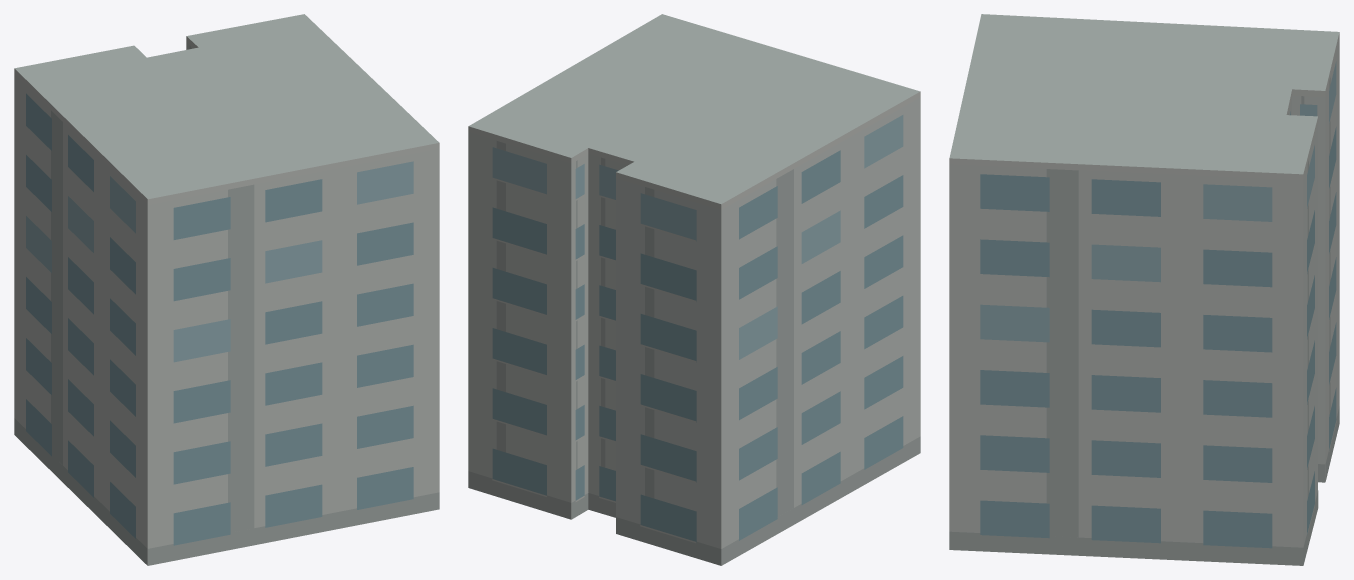
Rendered from survey-upis-33010345.glb.
The picture shows the model from 3 angles, left to right: view 1: azimuth 30°, elevation 25°; view 2: azimuth 150°, elevation 25°; view 3: azimuth 270°, elevation 25°; orthographic projection. The views are drawn at different scales.
Parts seen in each view (by area): view 1: survey-upis-33010345.tmp; view 2: survey-upis-33010345.tmp; view 3: survey-upis-33010345.tmp.
Part boxes in pixels (x1,y1,x2,y2): survey-upis-33010345.tmp: (14, 14, 439, 565); survey-upis-33010345.tmp: (468, 14, 920, 565); survey-upis-33010345.tmp: (949, 14, 1339, 565).
Bounding box in the file's own units: 13.36 × 15.2 × 13.74.
